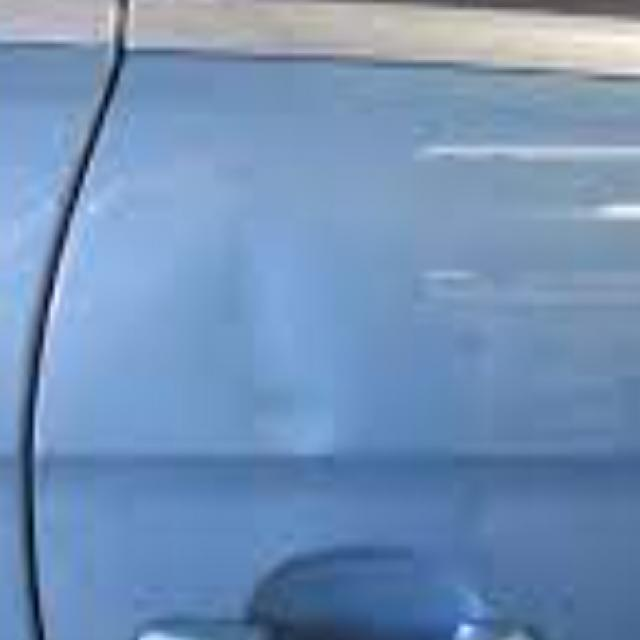dents: (189, 213, 314, 327)
